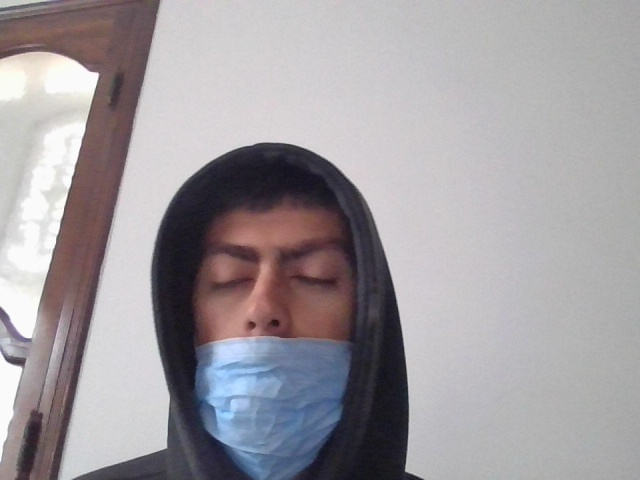mask_weared_incorrect: (184, 196, 356, 472)
